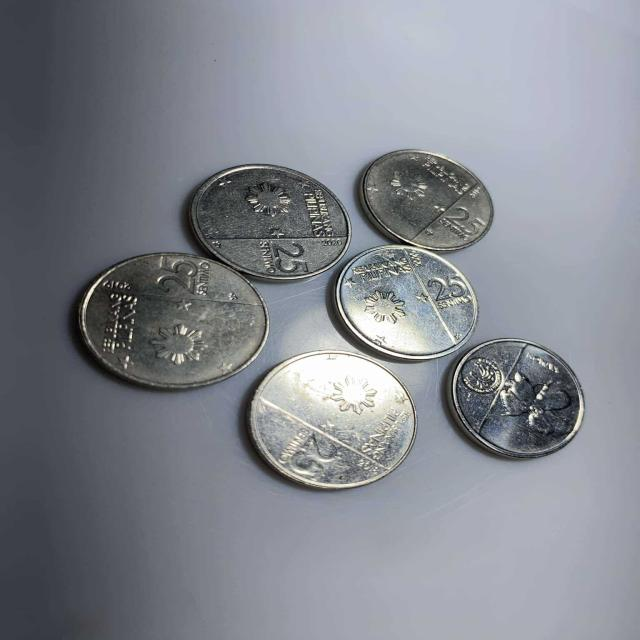25Cent_New_Back: (459, 336, 584, 457)
25Cent_New_Front: (292, 433, 340, 475), (154, 255, 198, 295), (273, 240, 310, 276), (426, 273, 471, 301), (444, 207, 488, 235)
